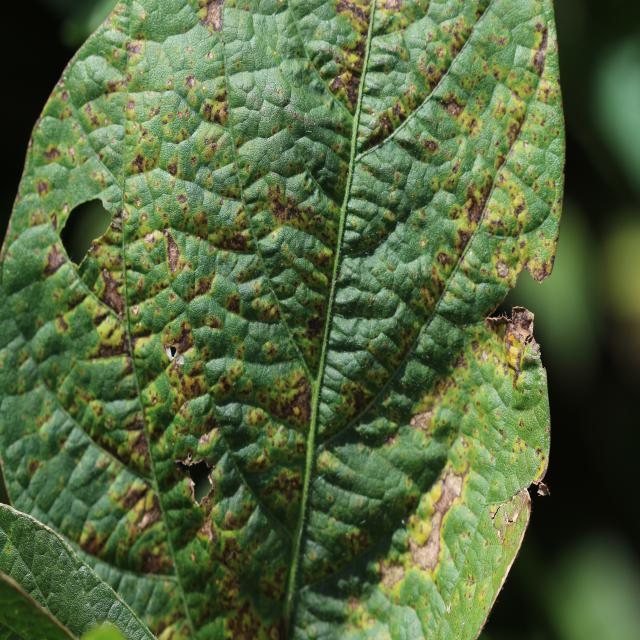Bacterial_Blight: (122, 421, 165, 547), (412, 478, 460, 575), (215, 576, 277, 640), (496, 286, 536, 355), (263, 185, 313, 237), (157, 225, 193, 292), (336, 0, 400, 37), (279, 376, 316, 434), (94, 253, 127, 314), (335, 53, 366, 114), (189, 0, 236, 37), (467, 192, 489, 237), (169, 328, 198, 359)
Soybean: (0, 0, 564, 638)
